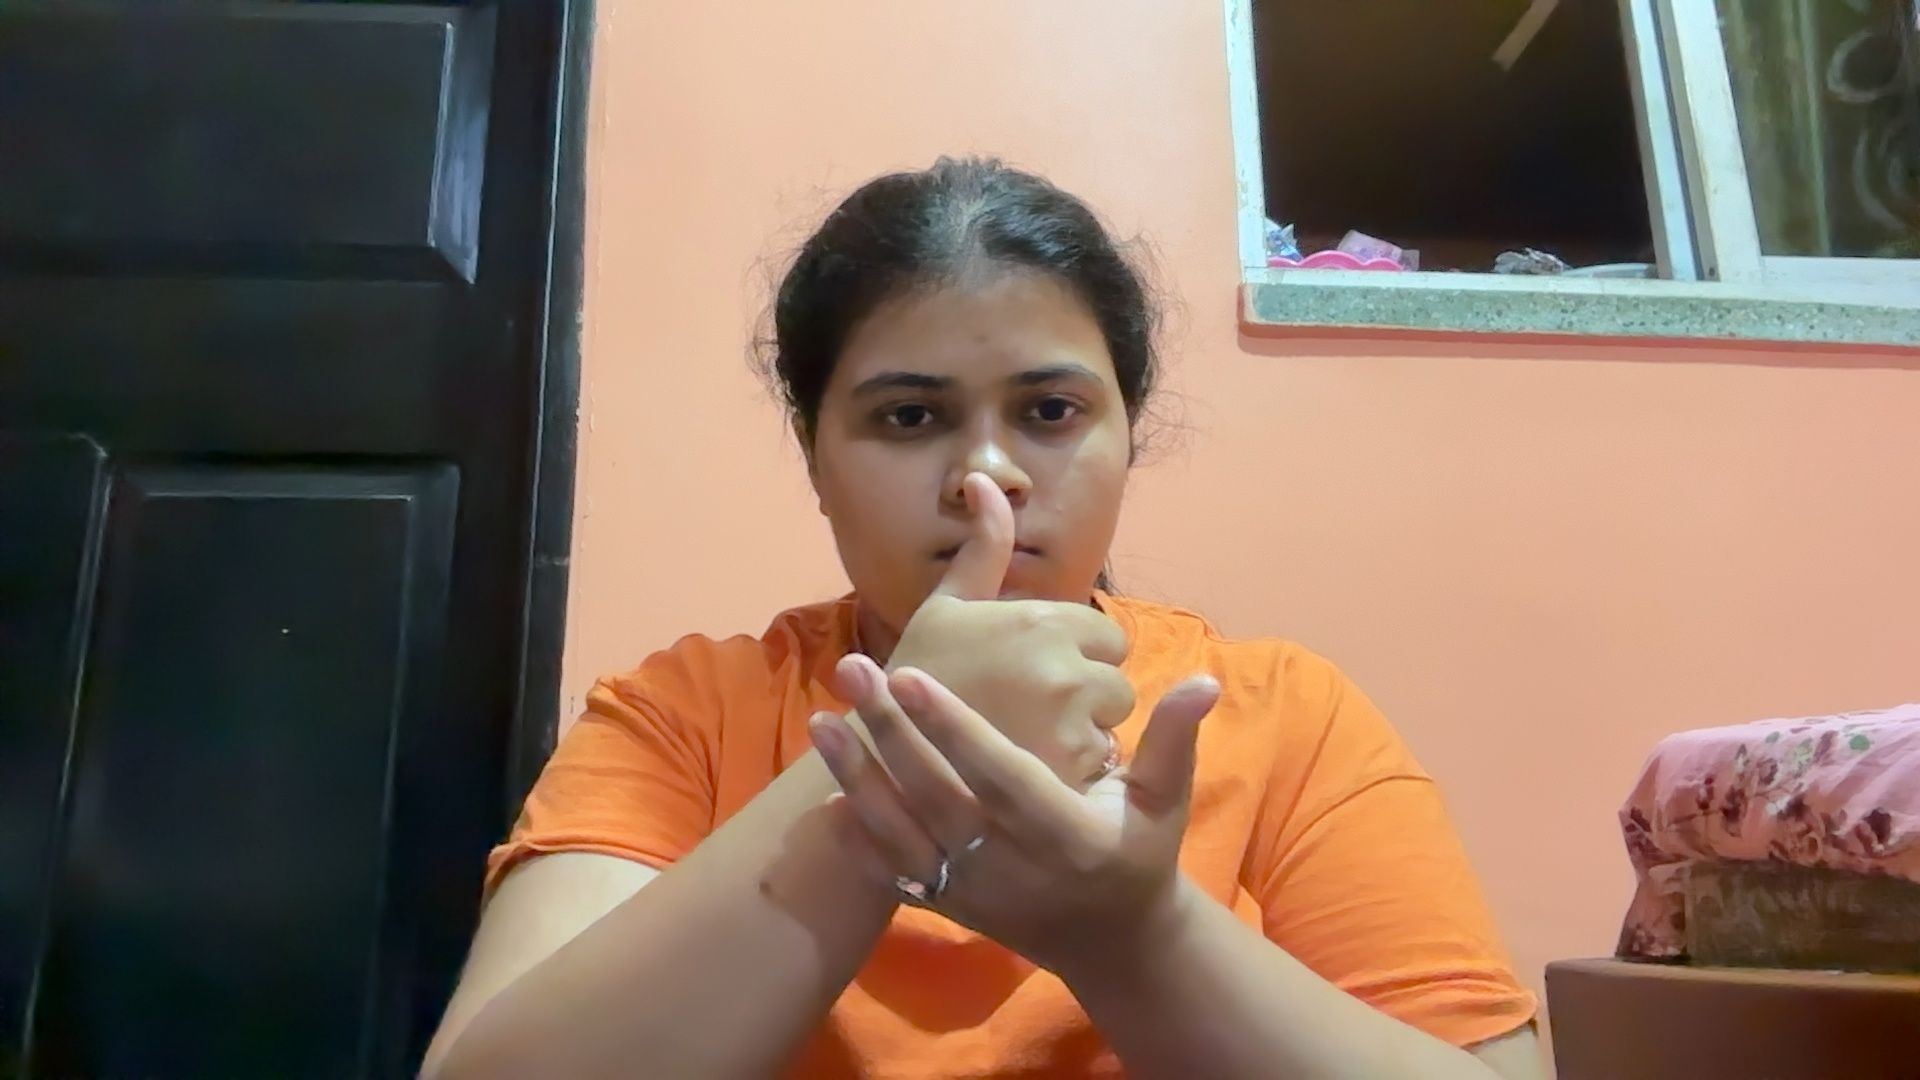help: (798, 422, 1255, 972)
